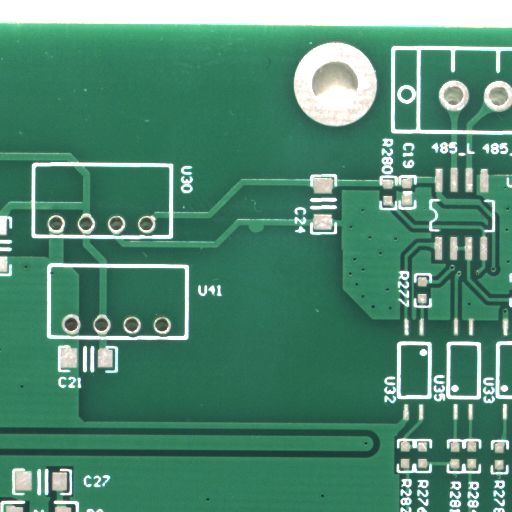Spur: (256, 228, 271, 237)
